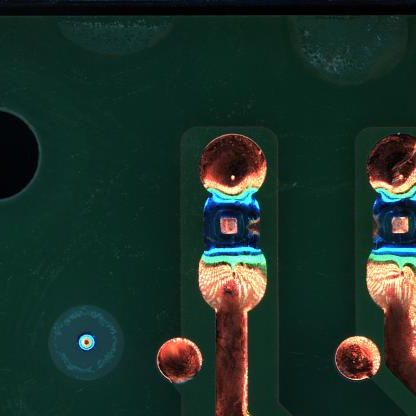spot: (203, 189, 263, 260), (371, 188, 416, 257)
